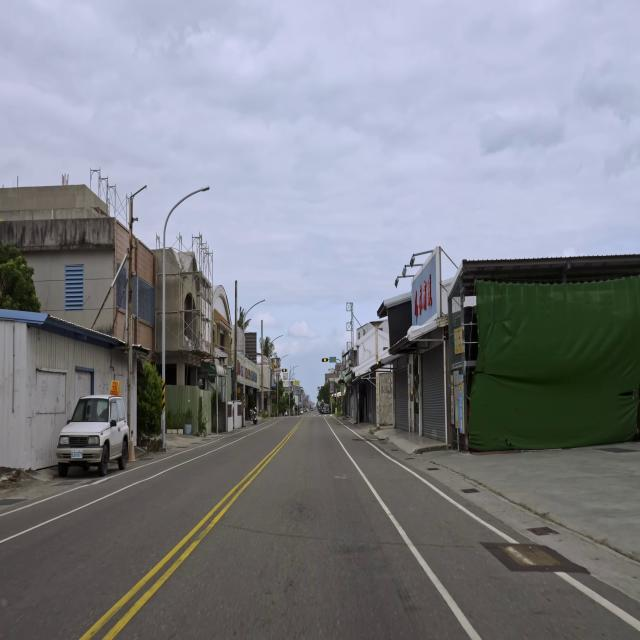yellow light: (322, 358, 328, 362), (281, 369, 287, 372)
